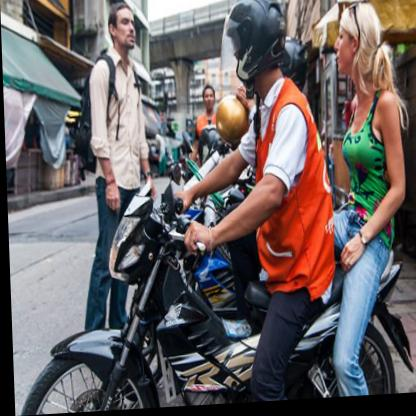With Helmet: (217, 0, 294, 102)
